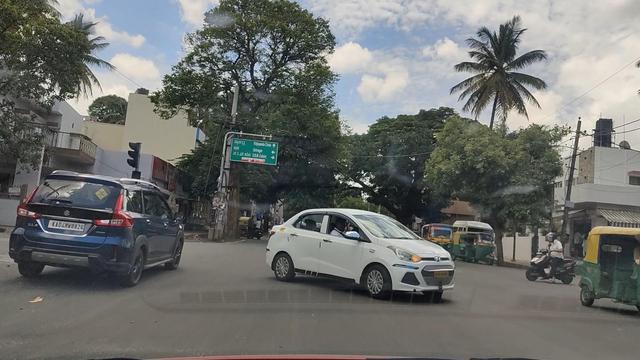LMV: (272, 205, 457, 303), (25, 175, 184, 287)
